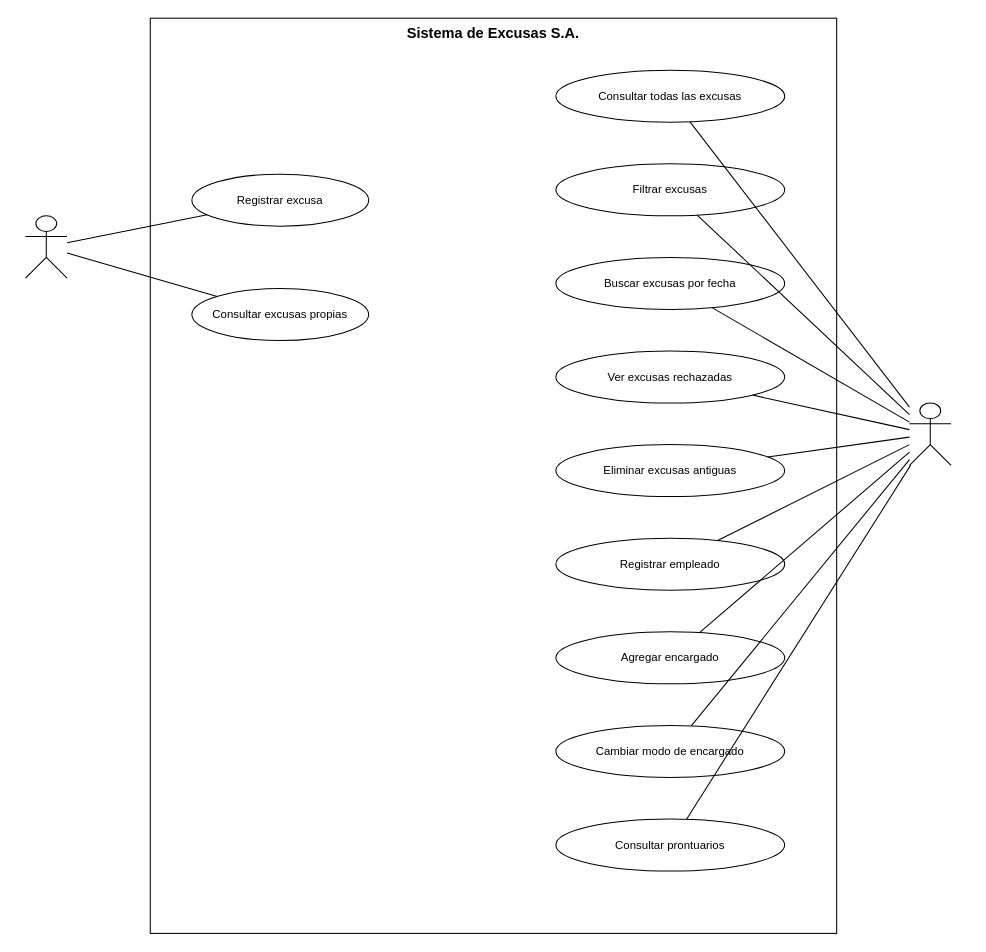
Some shapes in this 986 by 952 pixel diagram are drawn without their labels. Here are the shapes that lost their labels. From the top down, the centre of each, then its label:
At (x=45, y=246): "Empleado".
At (x=929, y=433): "Administrador".
